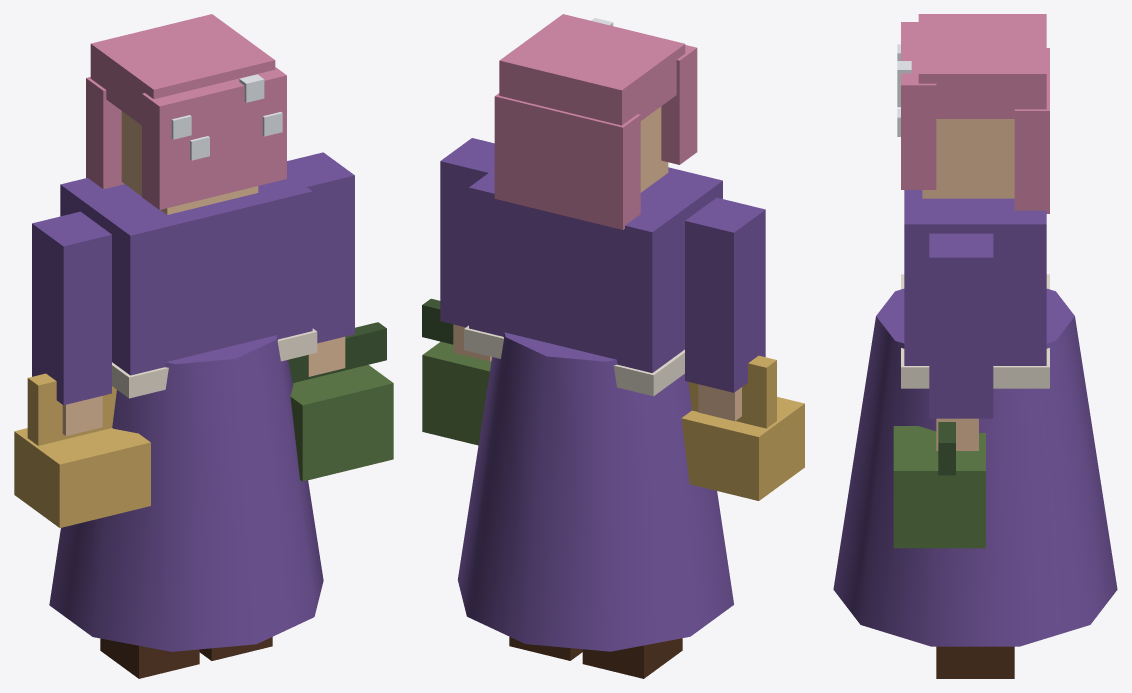
Rendered from npc_babushka.glb.
3 renders of one model, left to right at view 1: azimuth 30°, elevation 25°; view 2: azimuth 150°, elevation 25°; view 3: azimuth 270°, elevation 25°, orthographic.
Parts seen in each view (by area): view 1: npc_babushka; view 2: npc_babushka; view 3: npc_babushka.
Boxes of the visible parts, x1,y1,x2,y2 form: npc_babushka: (14, 14, 393, 678); npc_babushka: (422, 14, 804, 678); npc_babushka: (833, 14, 1117, 678).
Bounding box in the file's own units: 1.15 × 1.87 × 0.7999.
Materials: 1 (1 with a texture image).
